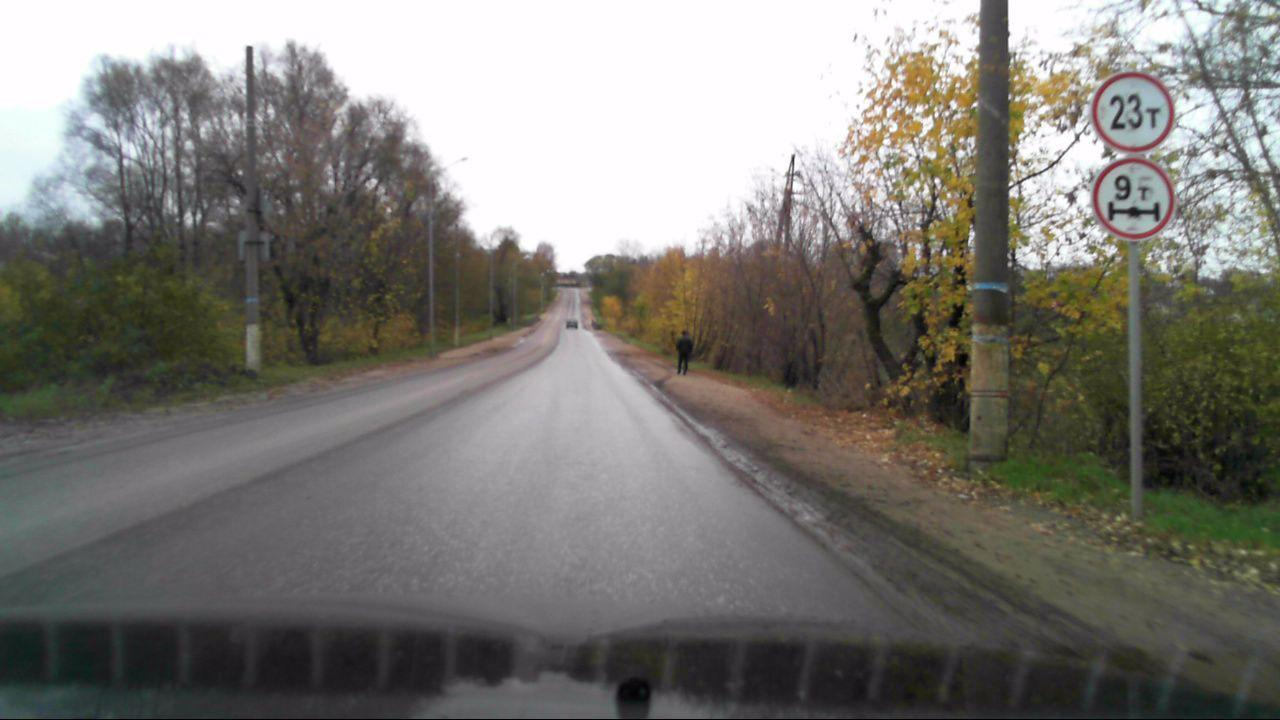3_11: (1090, 72, 1175, 153)
3_12: (1094, 160, 1174, 240)
